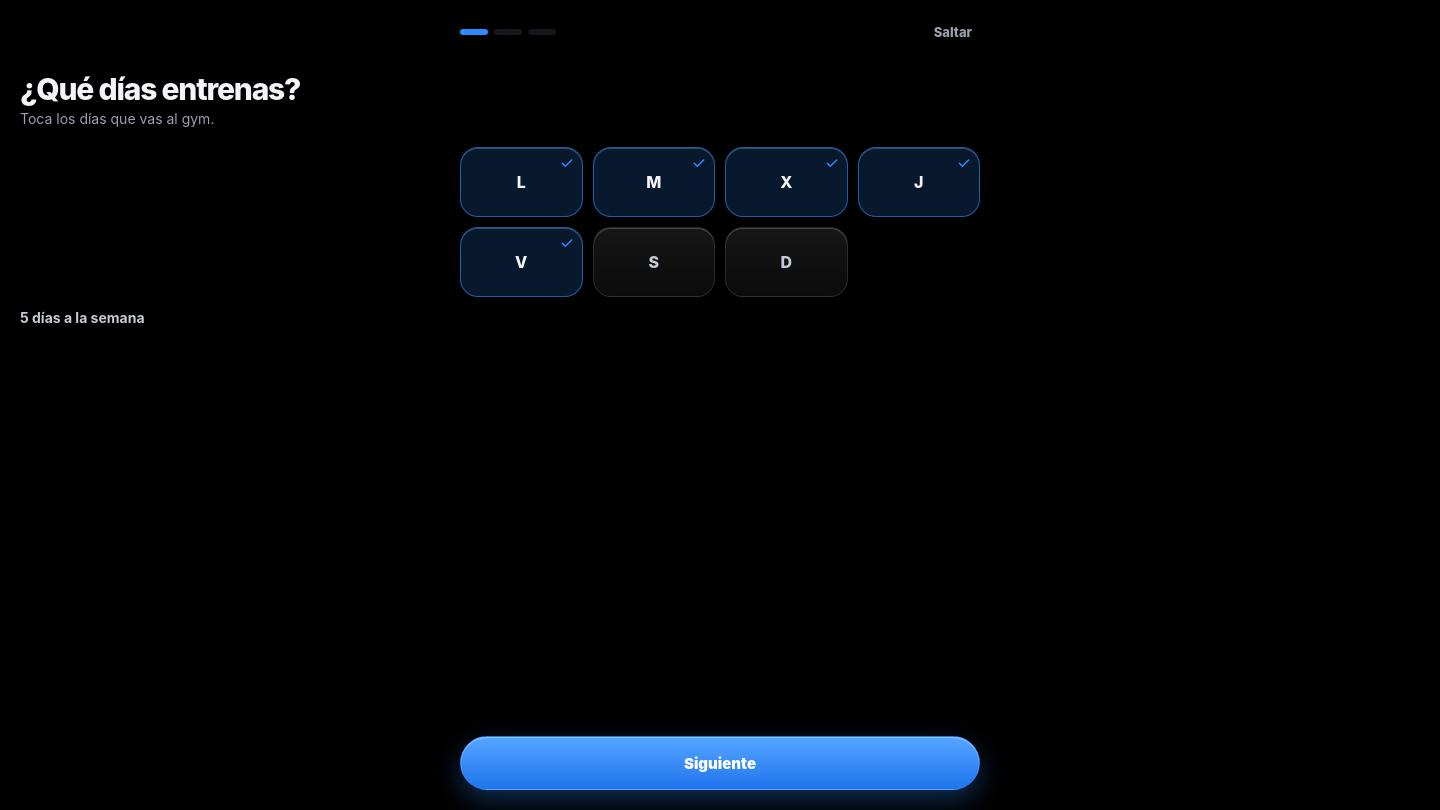
Scenario: Asistente de cuenta nueva · días de entreno › sin ningún día no deja seguir y explica por qué junto a los días
The image size is (1440, 810).
Click the button named "Lunes". click: {"x": 521, "y": 182}
box: [460, 147, 582, 217]
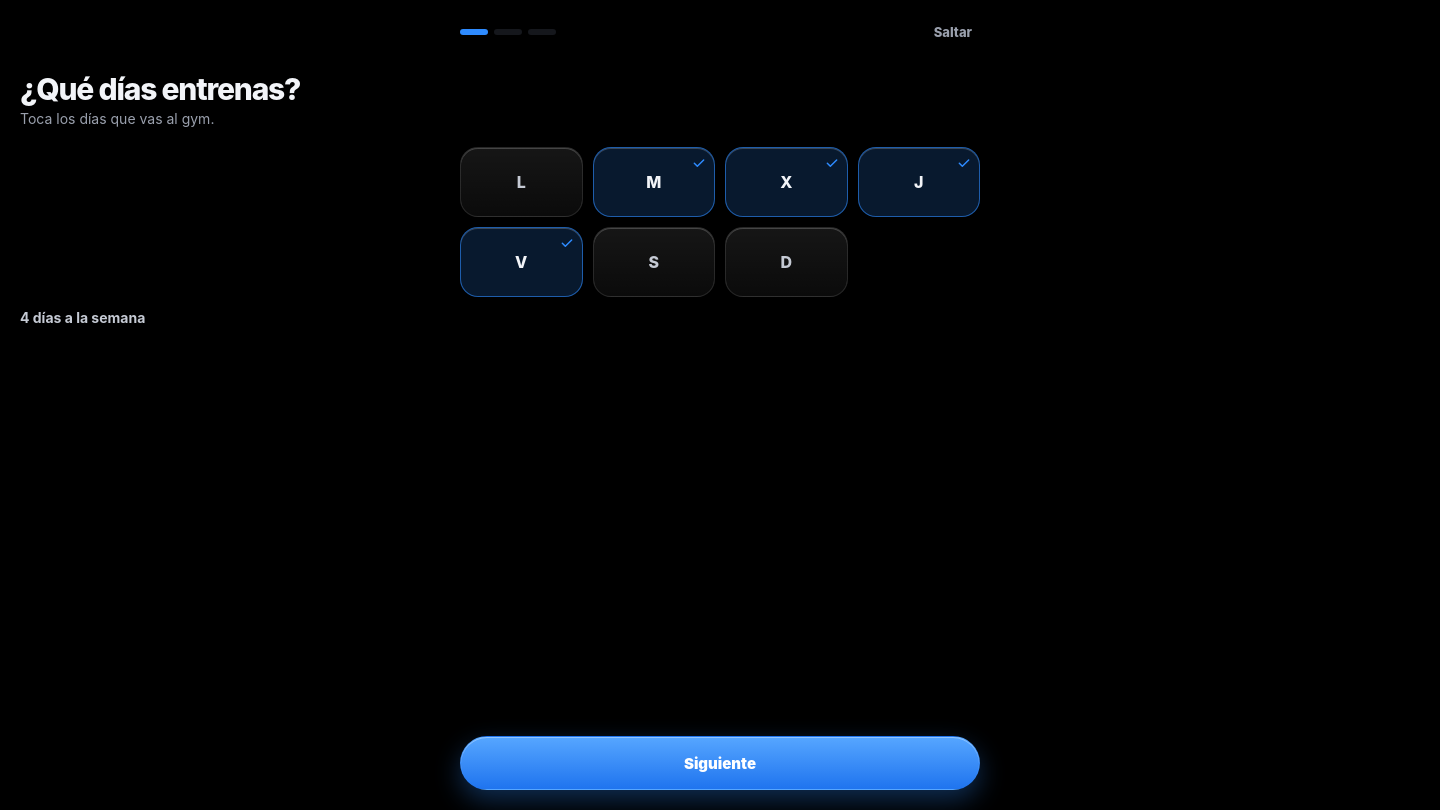
Click the button named "Martes". click: {"x": 654, "y": 182}
box: [592, 147, 715, 217]
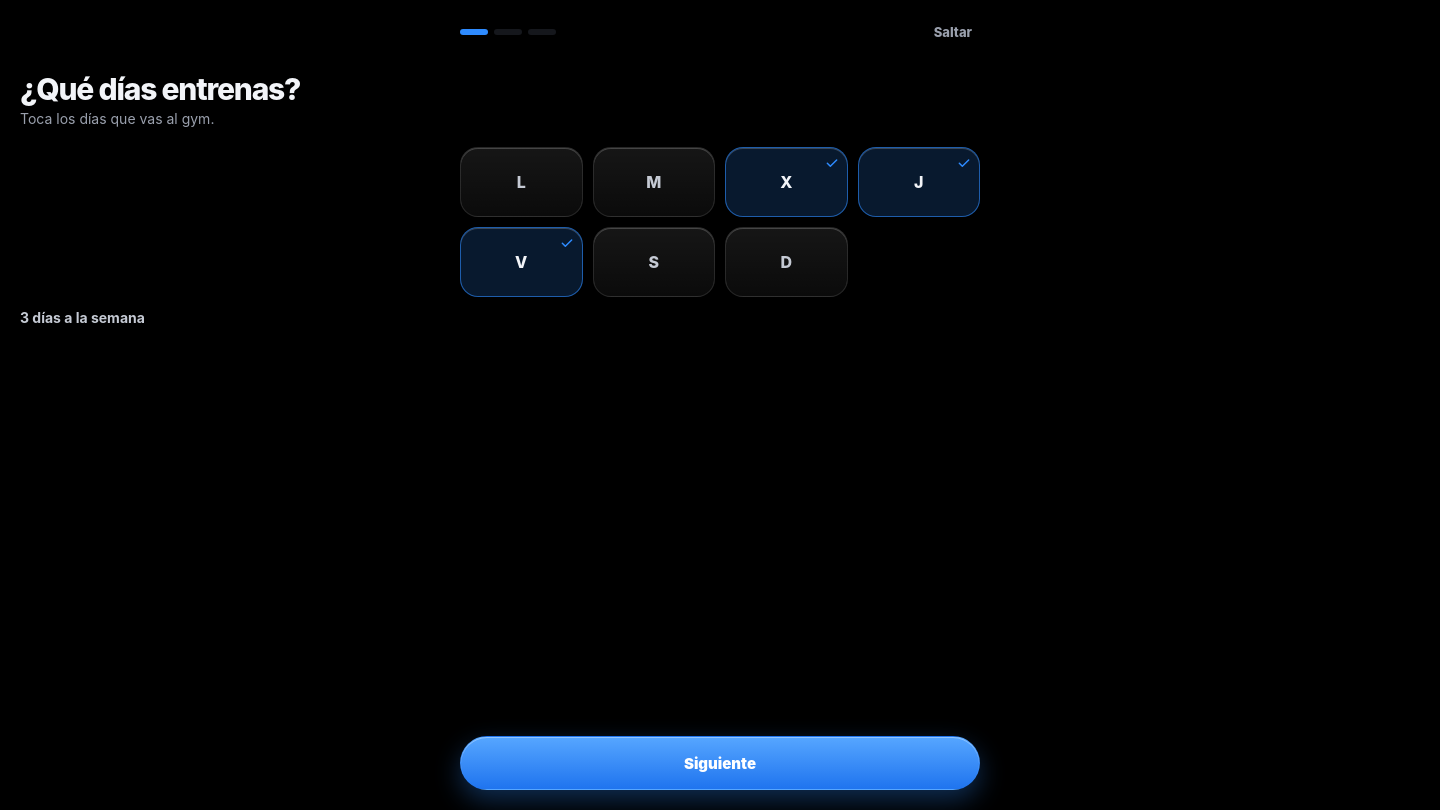
Click the button named "Miércoles". click: {"x": 786, "y": 182}
box: [725, 147, 848, 217]
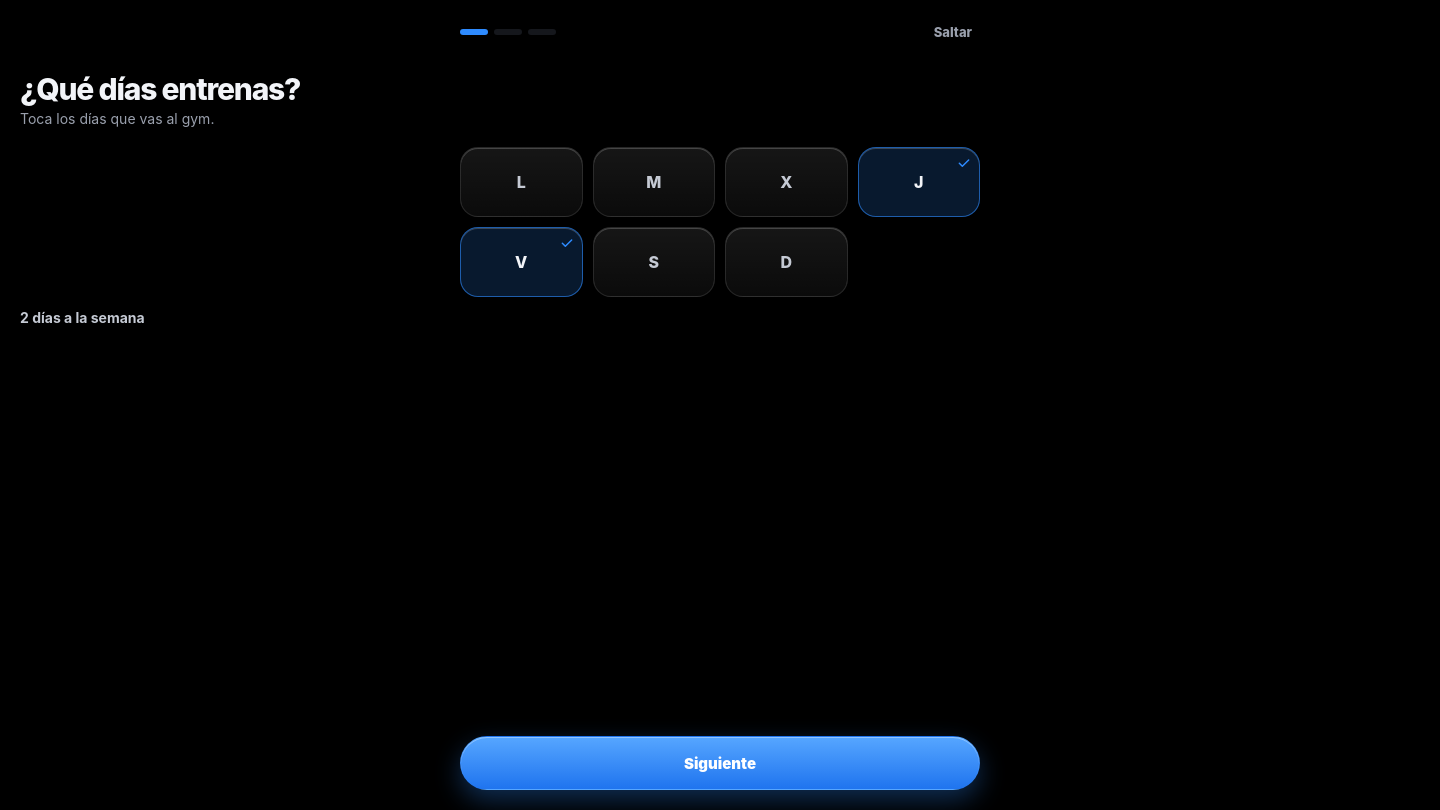
Click the button named "Jueves". click: {"x": 919, "y": 182}
box: [858, 147, 980, 217]
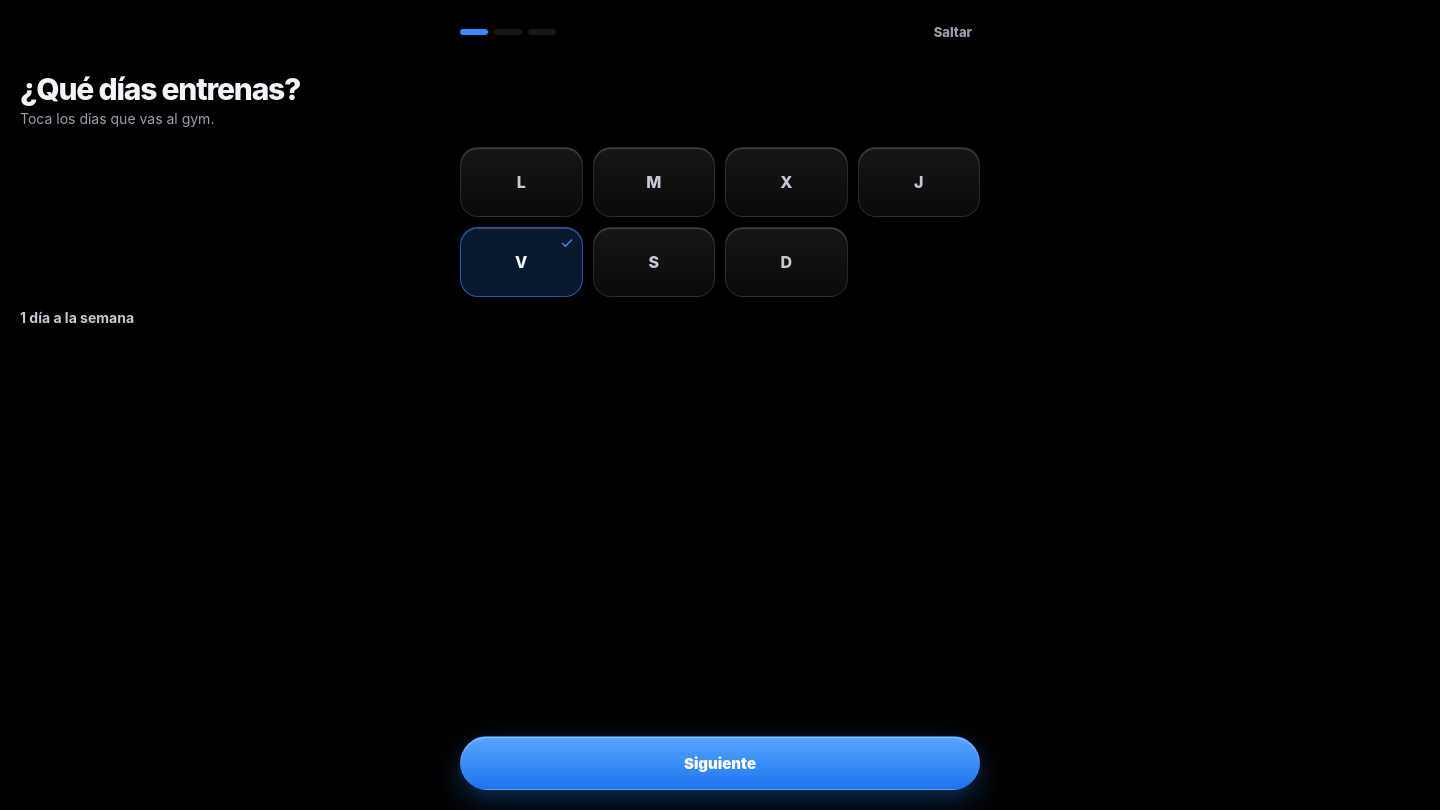
Click the button named "Viernes". click: {"x": 521, "y": 262}
box: [460, 227, 582, 297]
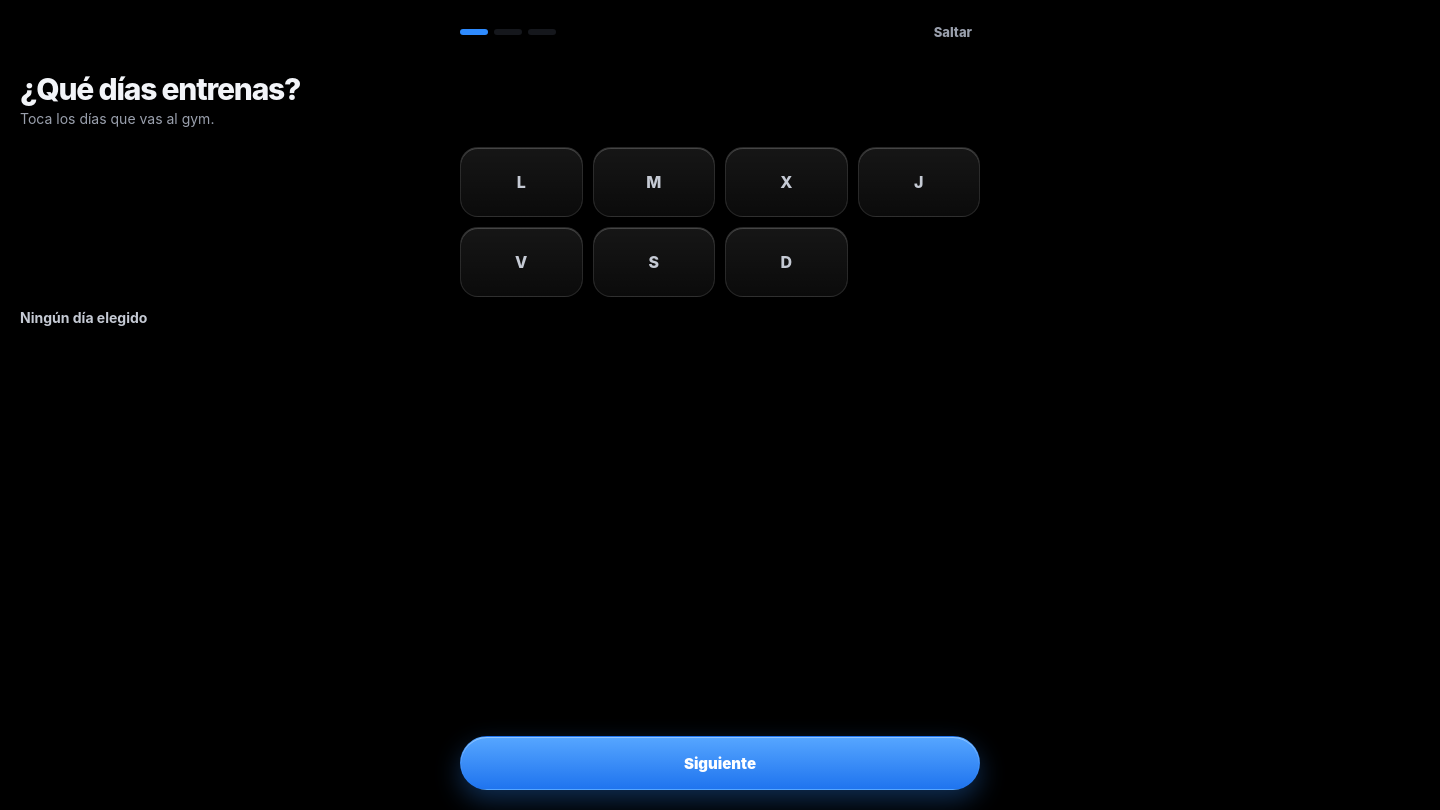
Expected: the text "Ningún día elegido" is shown, [20, 309, 147, 326]
Click the button "Siguiente". click: {"x": 720, "y": 763}
box: [460, 736, 980, 790]
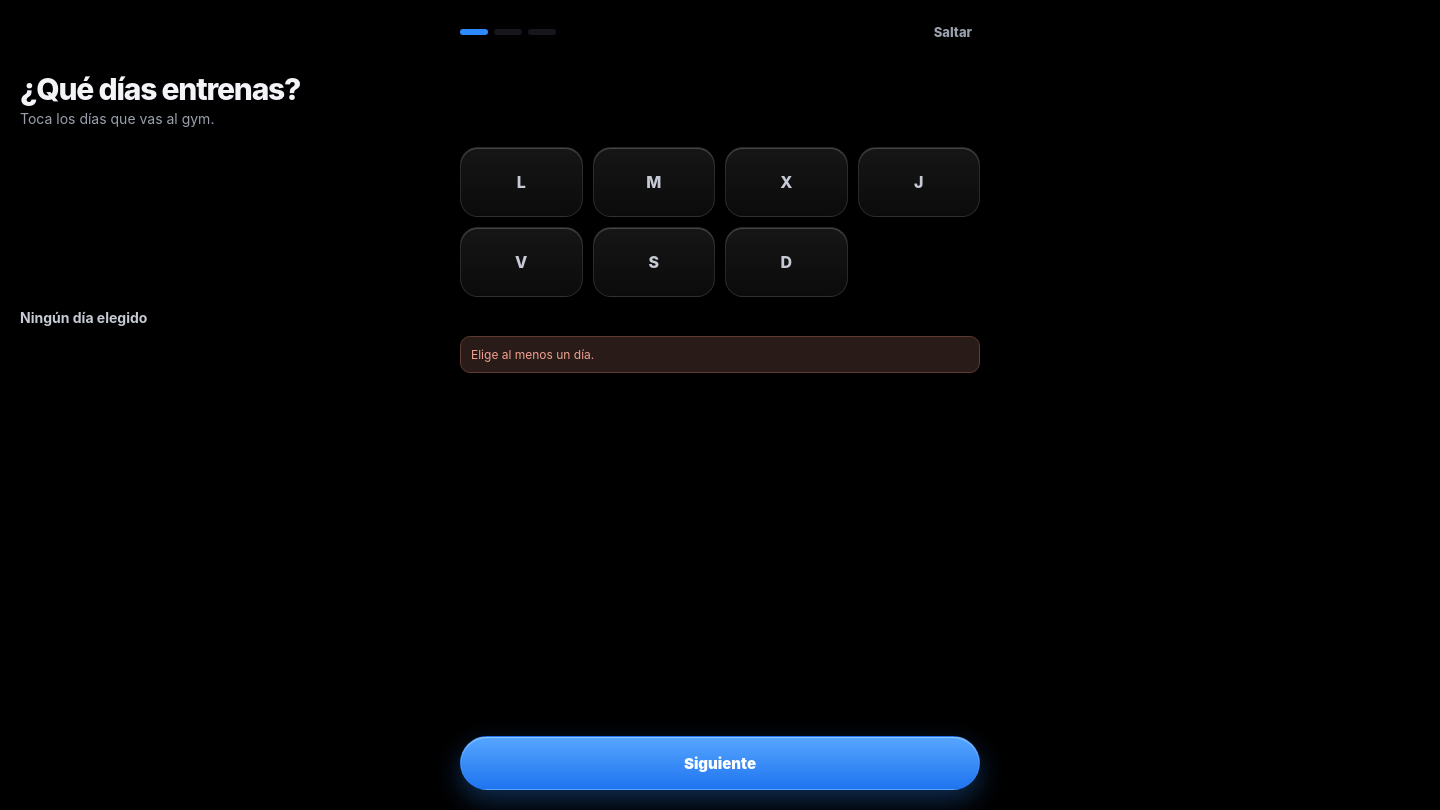
Expected: the message reads "Elige al menos un día.", [471, 347, 594, 362]
